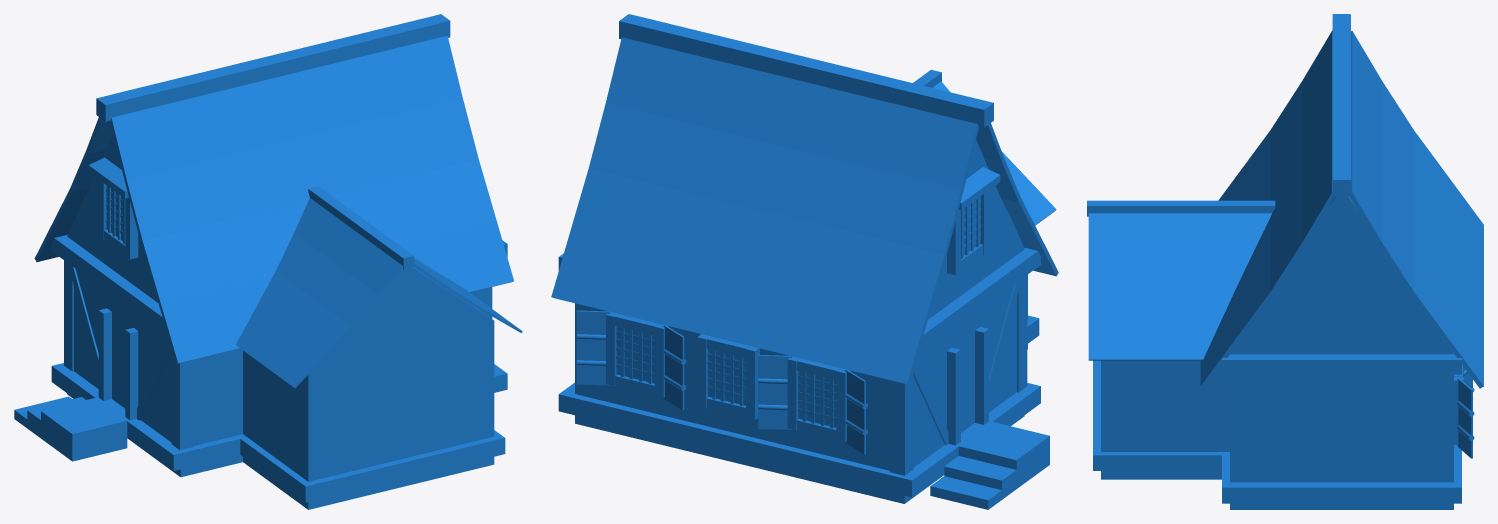
Rendered from Haus1.fbx.
The picture shows the model from 3 angles, left to right: view 1: azimuth 30°, elevation 25°; view 2: azimuth 150°, elevation 25°; view 3: azimuth 270°, elevation 25°; orthographic projection. The views are drawn at different scales.
Visible parts, largest first — view 1: Home; view 2: Home; view 3: Home.
Part boxes in pixels (x1,y1,x2,y2): Home: [14, 14, 522, 509]; Home: [551, 14, 1058, 509]; Home: [1087, 14, 1483, 509].
Bounding box in the file's own units: 761 × 636 × 682.
